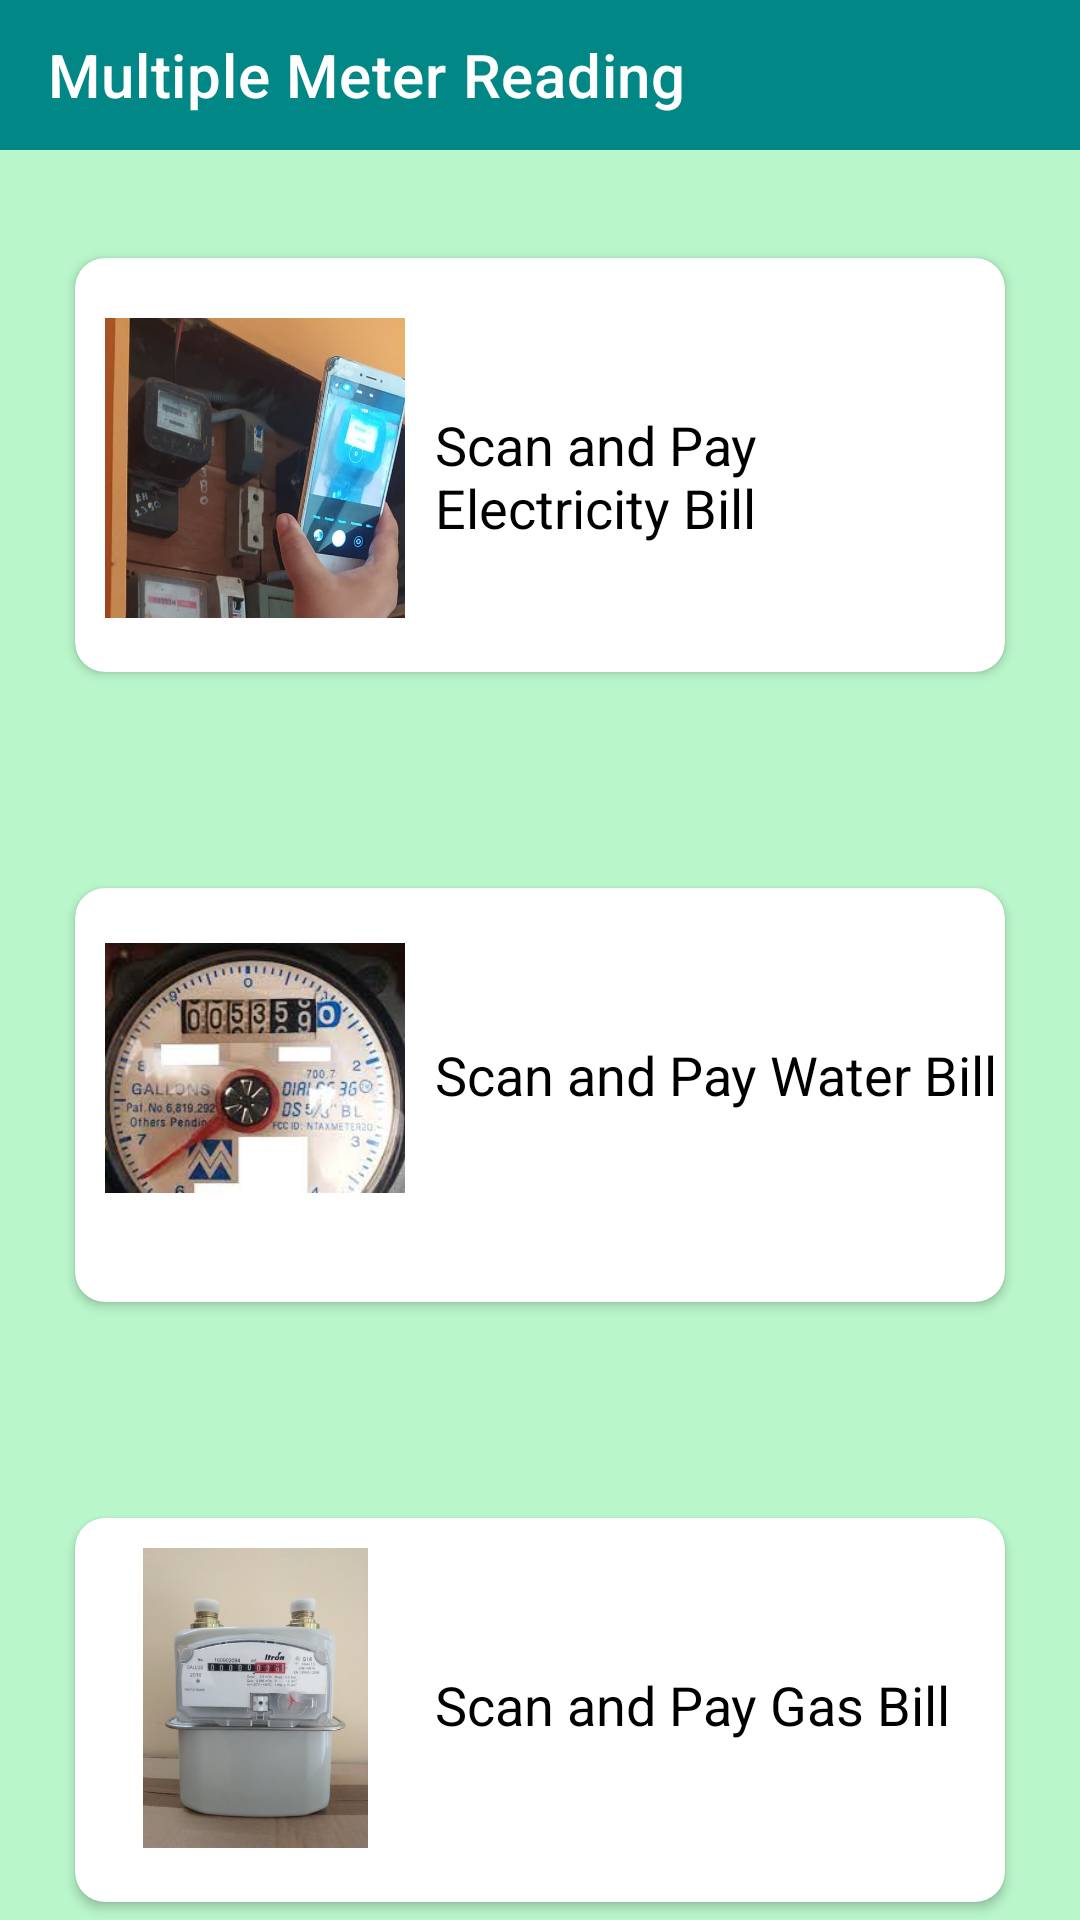

Icon bounding boxes for this 1080x1920 phone screenshot, format (x1, y1, x2, y2):
water meter: (105, 943, 405, 1193)
